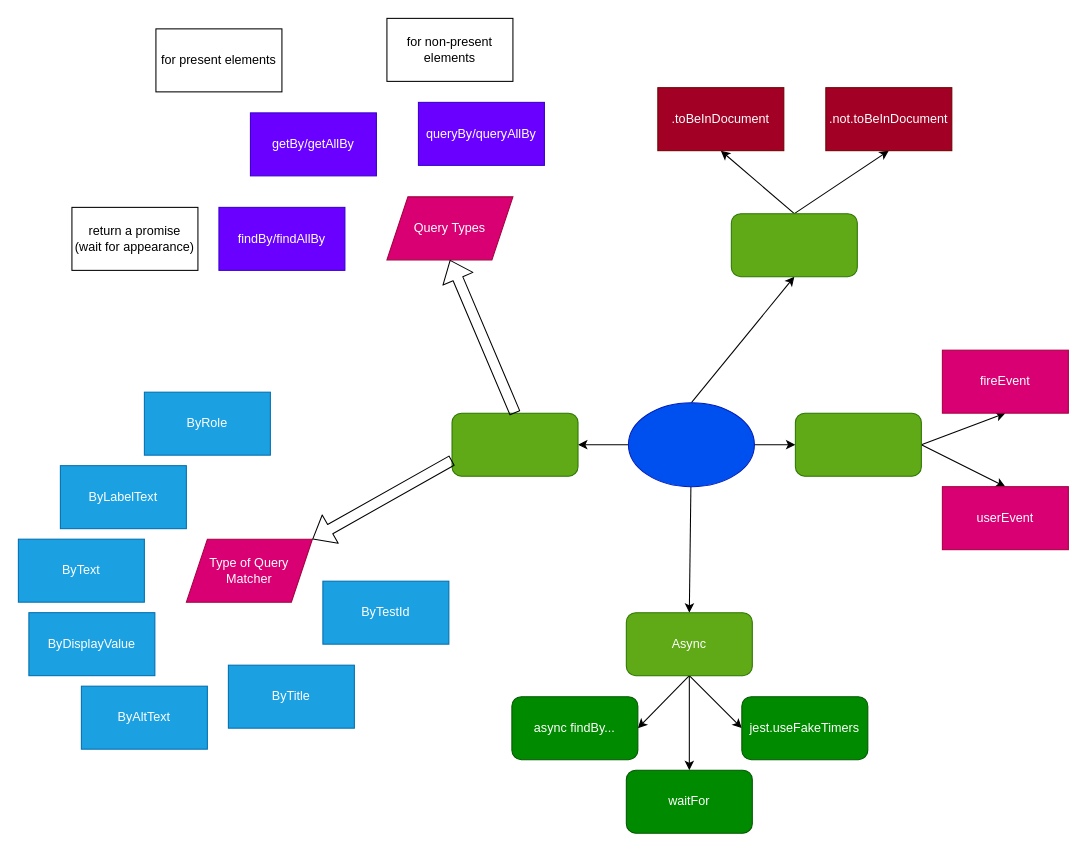
Image size: 1087x852. Some labels were removed from this diagram. The box of each missing label's shape, as (x1, y1, x2, y2) in pixels:
Assertions: (730, 213, 857, 277)
Events: (794, 412, 921, 476)
Queries: (451, 412, 578, 476)
React Testing Library: (627, 402, 754, 487)
